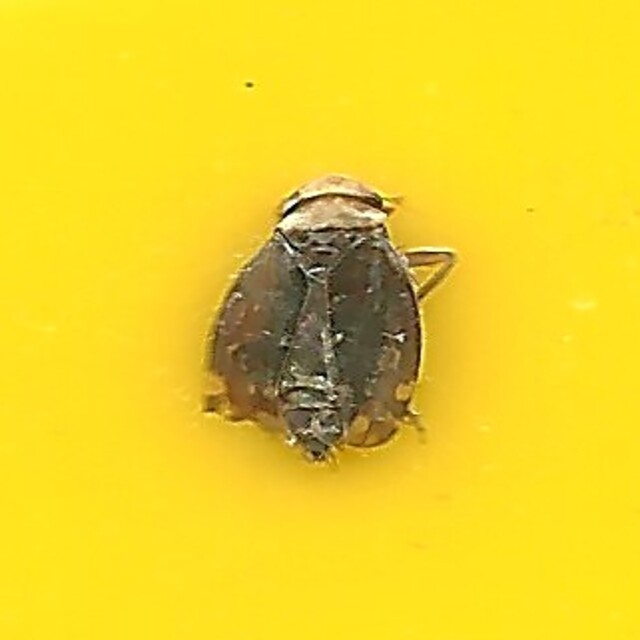Hemiptera: (199, 175, 441, 465)
